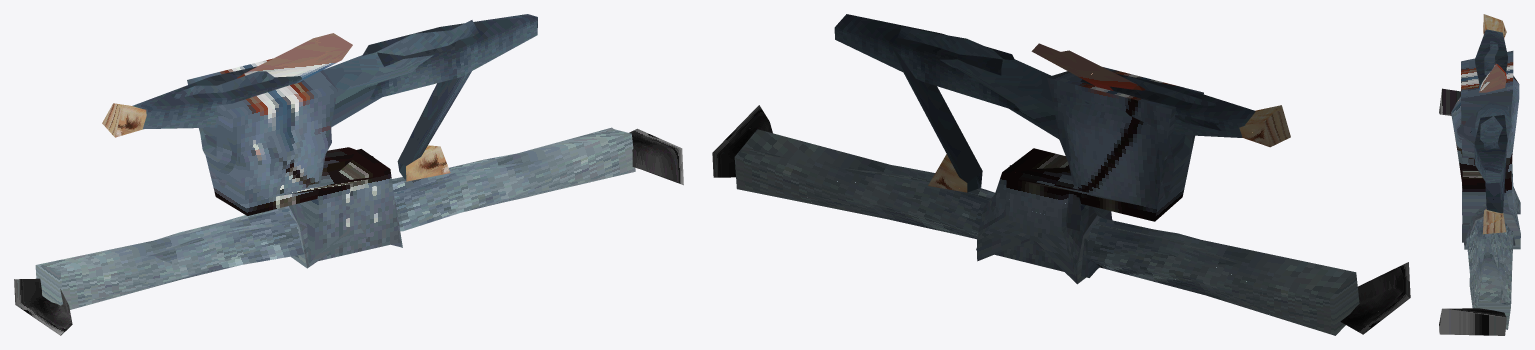
File: CgreyguardZ.obj
3 views of the same model, side by side, from view 1: azimuth 30°, elevation 25°; view 2: azimuth 150°, elevation 25°; view 3: azimuth 270°, elevation 25° (orthographic). The views are drawn at different scales.
Size of the model in its own units: 2167 by 681 by 342.
12 materials, 12 textured.
